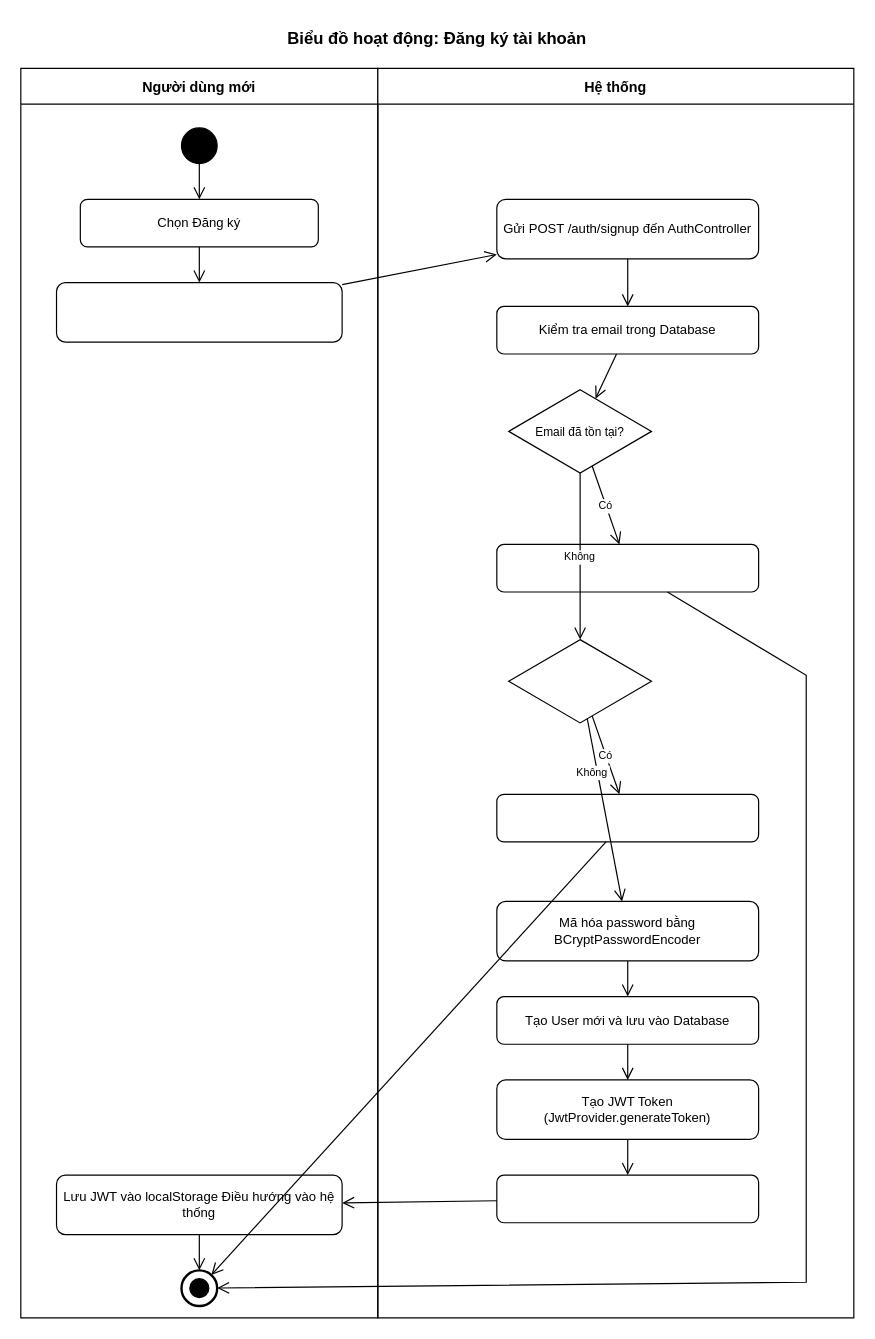
Image size: 875x1339. Some labels were removed from this diagram. Here are the shapes that lost their labels. From the top down, the box of each, then its label:
(55, 281, 342, 342): Nhập thông tin: fullName, email, password, phone
(496, 543, 759, 592): Trả lỗi: Email already exists
(508, 638, 652, 723): Role = ROLE_ADMIN?
(496, 793, 759, 842): Trả lỗi: Không thể đăng ký Admin
(496, 1174, 759, 1223): Trả về { jwt, user }
